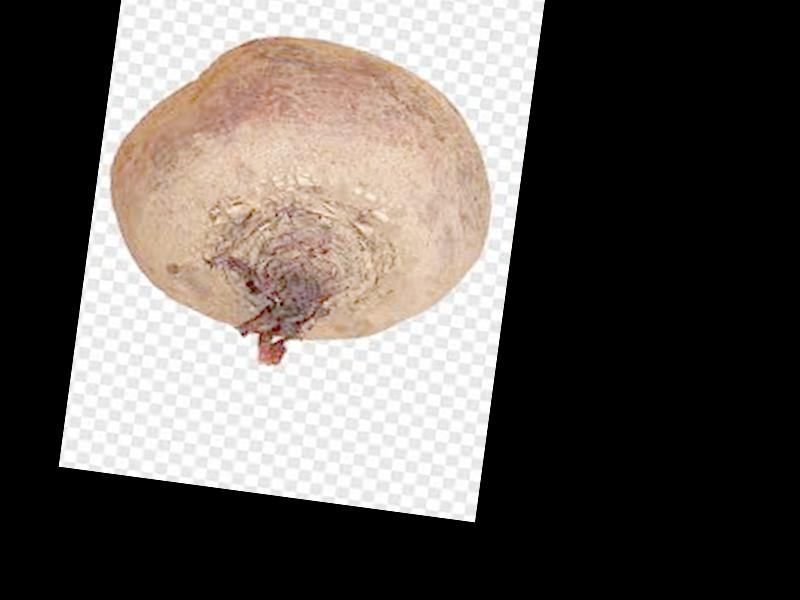Beet: (91, 16, 507, 392)
